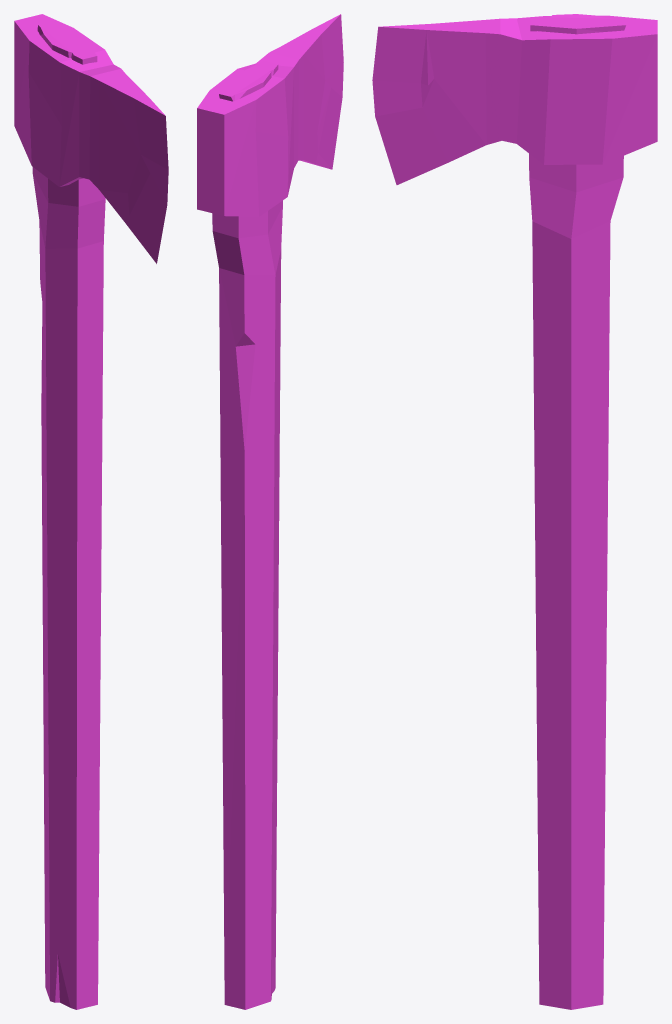
Rendered from SM_Axe_Chopping_Fantasy.fbx.
3 views of the same model, side by side, from view 1: azimuth 30°, elevation 25°; view 2: azimuth 150°, elevation 25°; view 3: azimuth 270°, elevation 25° (orthographic). The views are drawn at different scales.
Parts seen in each view (by area): view 1: SM_Axe_Chopping_Fantasy; view 2: SM_Axe_Chopping_Fantasy; view 3: SM_Axe_Chopping_Fantasy.
Part boxes in pixels (x1,y1,x2,y2): SM_Axe_Chopping_Fantasy: (14, 14, 168, 1009); SM_Axe_Chopping_Fantasy: (197, 14, 343, 1009); SM_Axe_Chopping_Fantasy: (372, 14, 657, 1009).
Size of the model in its own units: 0.0363 by 0.6294 by 0.1663.
